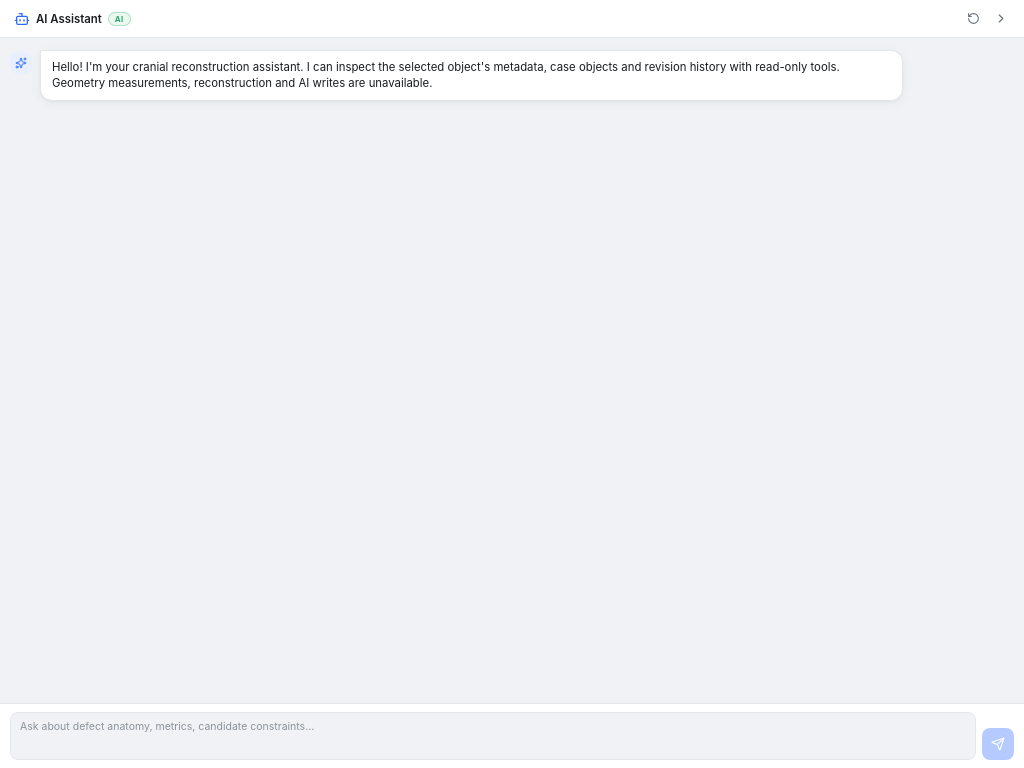
case report card (ai-case-report R15–R17, S9) › a failed build shows the error and Try again re-runs capture and build without another chat request
Step 1. Type "Make a case report" into the text box named "Message for AI assistant" → x=493, y=736, box [10,712,976,760]
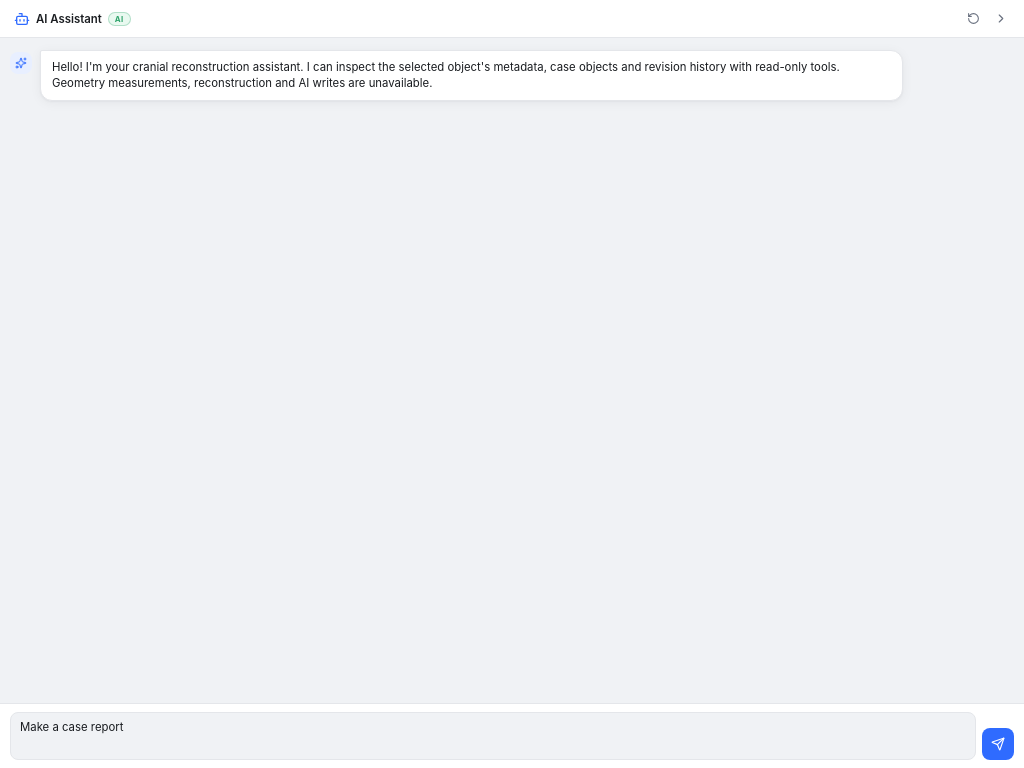
Step 2. Click the button named "Send message to AI assistant" → x=998, y=744, box [982,728,1014,760]
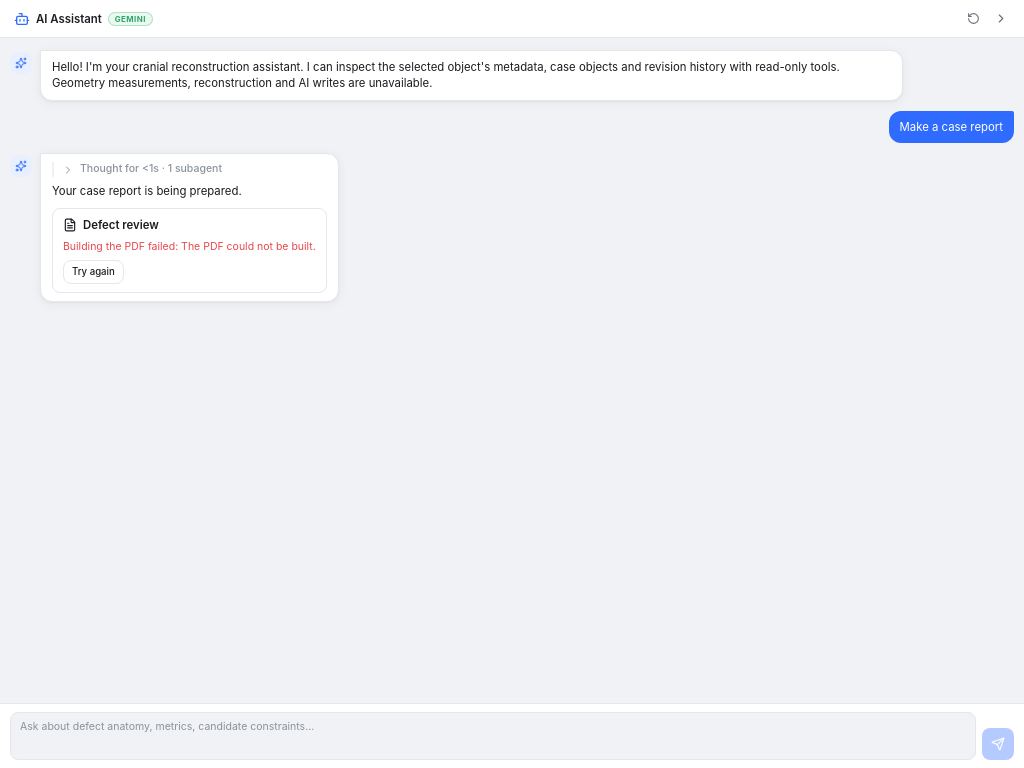
Now the element named "Case report" shows "The PDF could not be built", box [63,240,316,253]
Step 3. Click the button "Try again" → x=93, y=272, box [63,260,124,284]
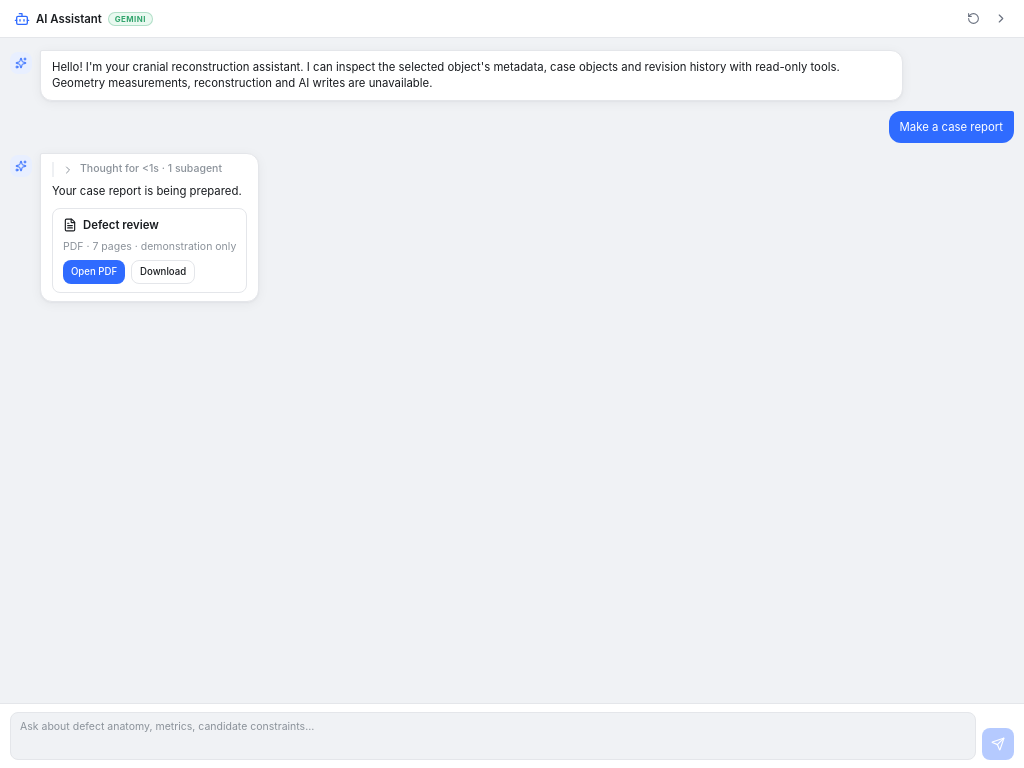
Now the link "Open PDF" is shown, box [63,260,125,284]
